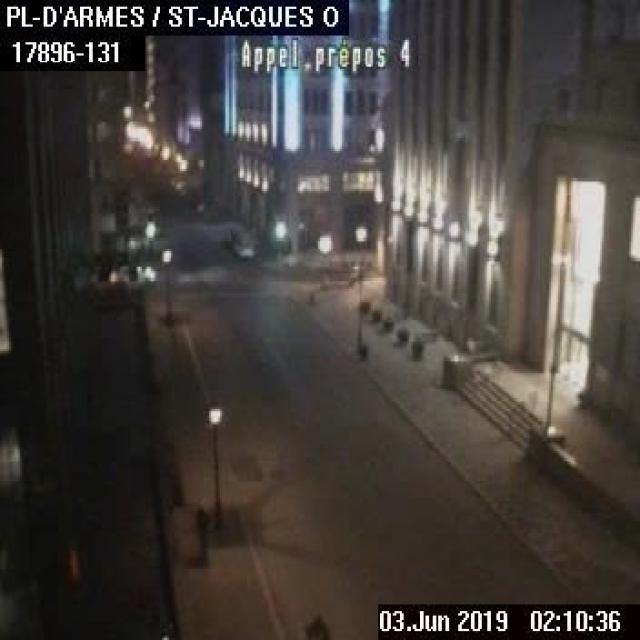vehicle: (108, 264, 153, 284), (232, 235, 256, 258)
